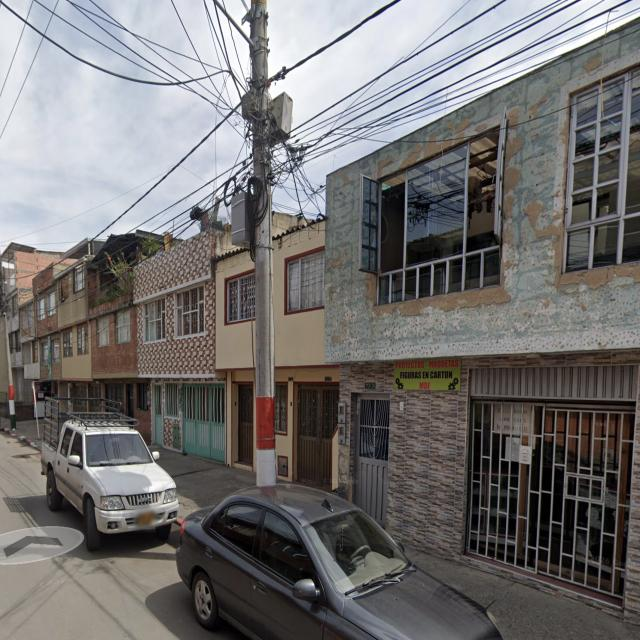Fachada: (325, 19, 640, 621), (134, 213, 228, 462), (270, 221, 339, 488), (214, 251, 257, 470), (90, 293, 150, 441), (57, 261, 91, 395), (10, 297, 40, 420), (33, 265, 61, 381)
Poste: (247, 0, 276, 486), (3, 312, 16, 429)
